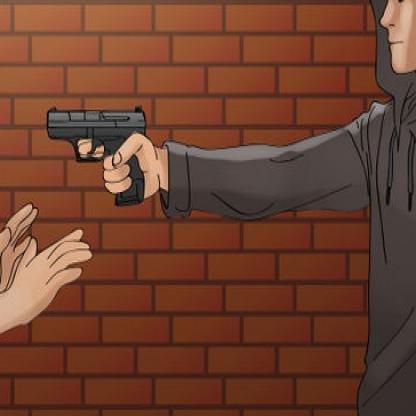gun: (36, 90, 164, 213)
